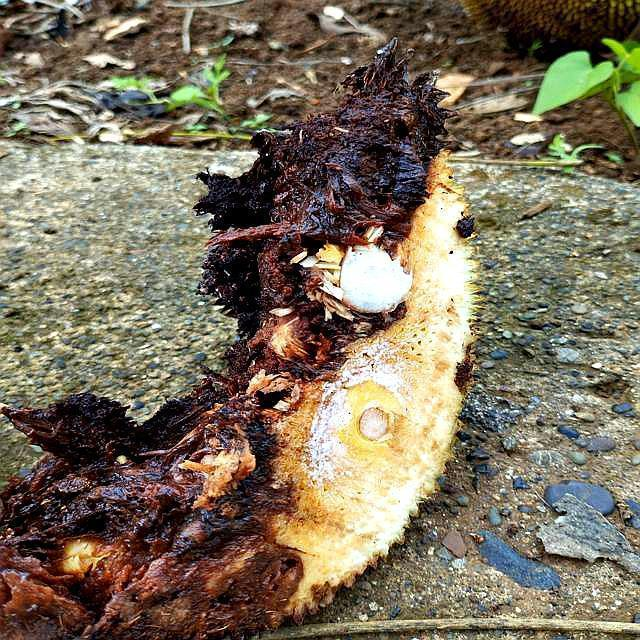Biodegradable: (209, 80, 477, 498), (1, 394, 334, 640)
